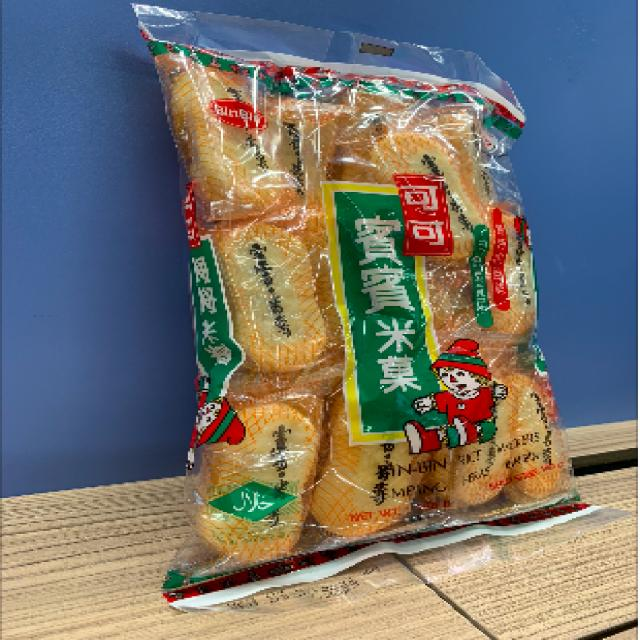object_name: (173, 25, 542, 524)
